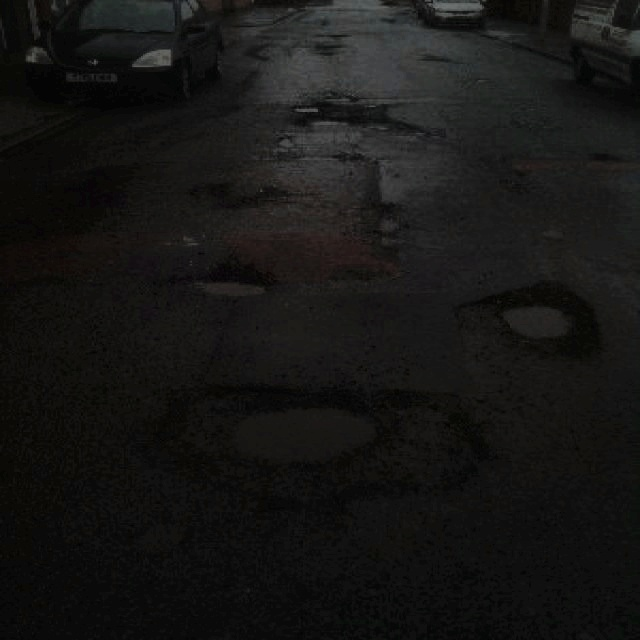Pothole: (138, 382, 486, 500), (476, 278, 602, 360), (288, 99, 386, 130), (186, 267, 275, 299)
